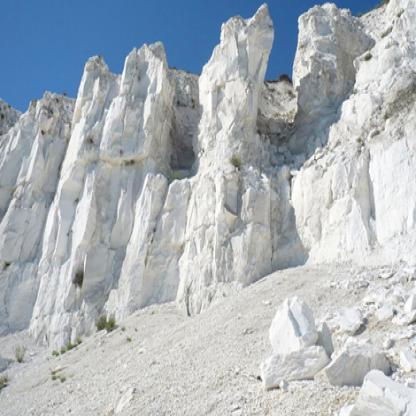Sedimentary_Chalk: (184, 4, 279, 281), (91, 42, 174, 312), (1, 101, 78, 359), (300, 8, 360, 254), (348, 361, 416, 415), (326, 330, 388, 371), (271, 289, 317, 343)
